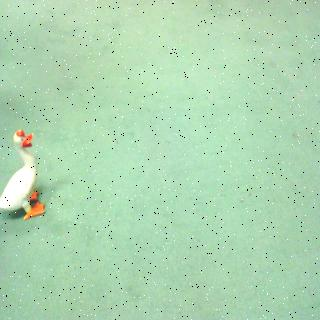duck: (1, 126, 54, 226)
